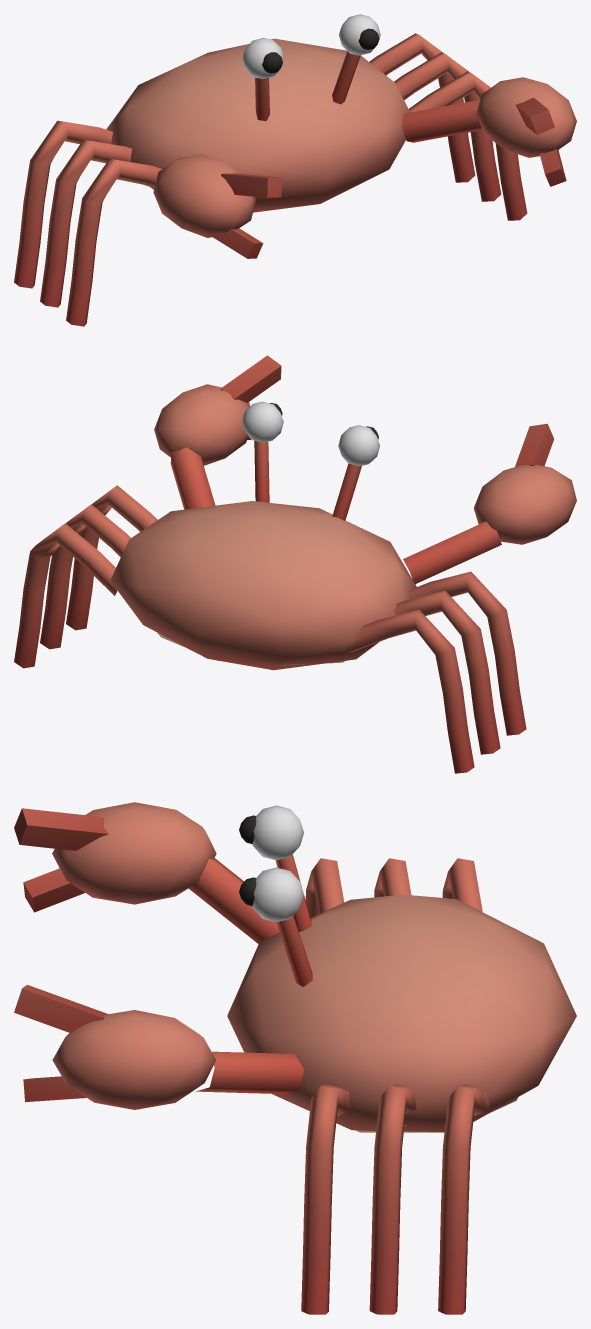
File: caranguejo.glb
The picture shows the model from 3 angles, top to bottom: view 1: azimuth 30°, elevation 25°; view 2: azimuth 150°, elevation 25°; view 3: azimuth 270°, elevation 25°; orthographic projection. The views are drawn at different scales.
Visible parts, largest first — view 1: caranguejo; view 2: caranguejo; view 3: caranguejo.
Part boxes in pixels (x1=…): caranguejo: x1=14, y1=14, x2=576, y2=326; caranguejo: x1=14, y1=355, x2=576, y2=773; caranguejo: x1=14, y1=802, x2=576, y2=1314.
Bounding box in the file's own units: 4.25 × 2.27 × 3.46.
